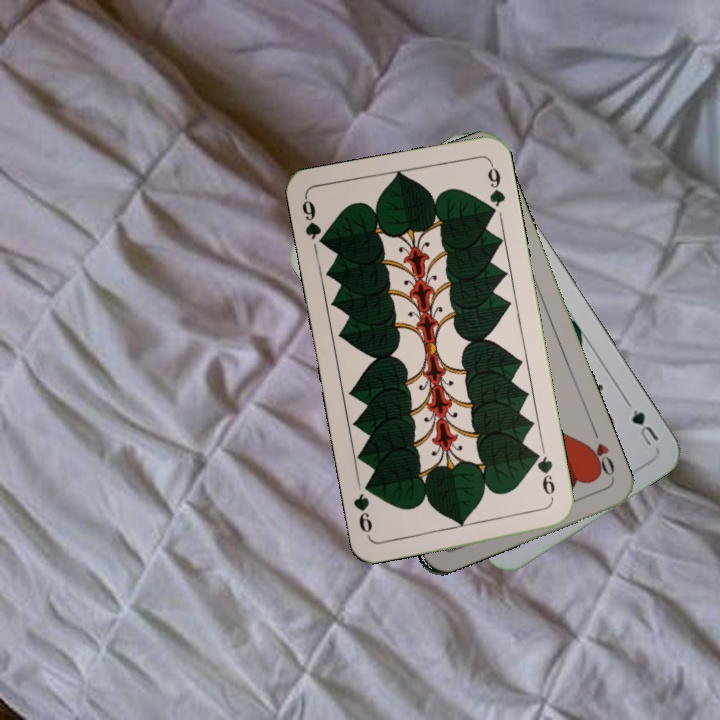G9: (297, 194, 330, 250), (529, 447, 558, 504)
GU: (627, 405, 662, 449)
HO: (582, 424, 617, 481)
